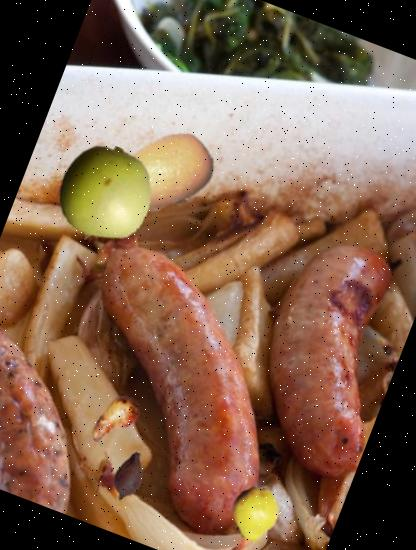Apple: (40, 131, 169, 260)
Kumquats: (104, 110, 229, 234)
Pear: (76, 383, 152, 458)
Quince: (218, 478, 290, 550)
Salak: (95, 444, 162, 511)
